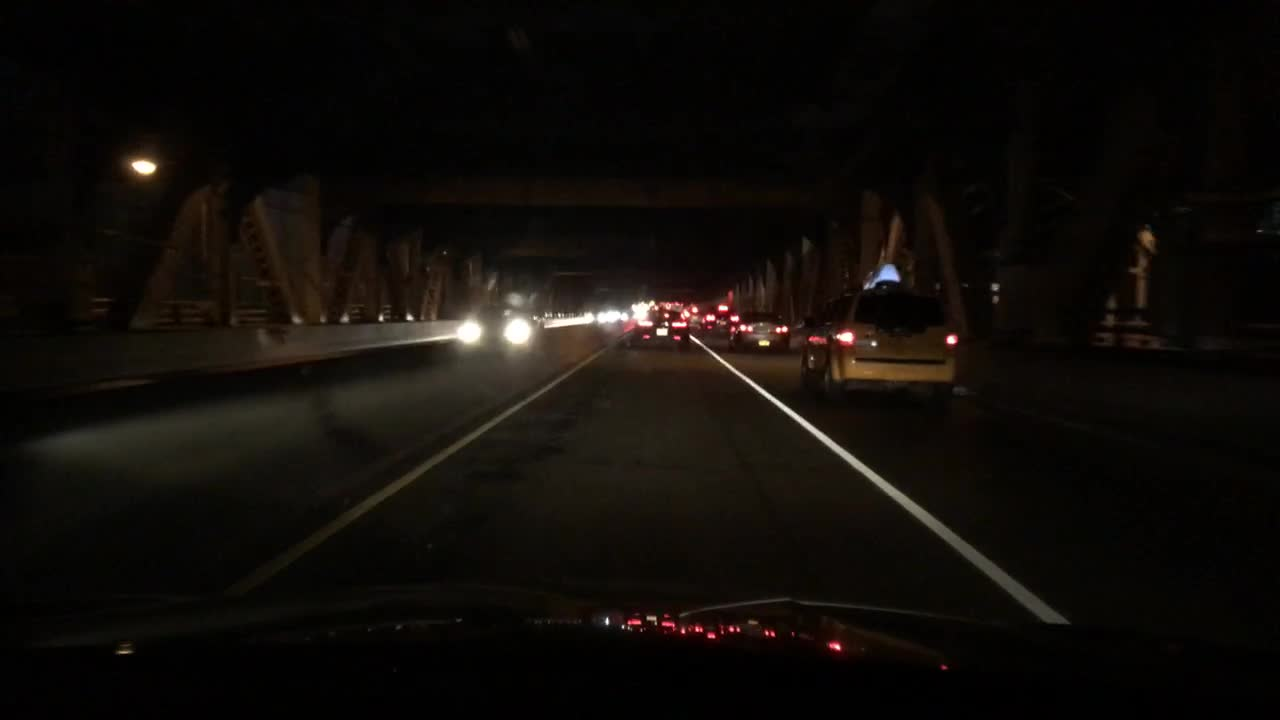car: (798, 261, 958, 407), (456, 307, 542, 362), (632, 301, 690, 353), (725, 310, 791, 353), (700, 303, 736, 332), (683, 304, 704, 325), (598, 307, 622, 324)
